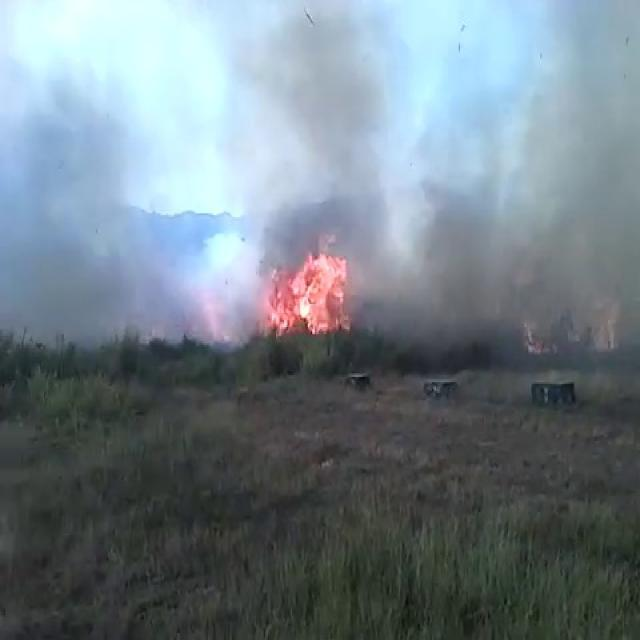Fire: (262, 242, 358, 342)
Smoke: (187, 0, 635, 335)
